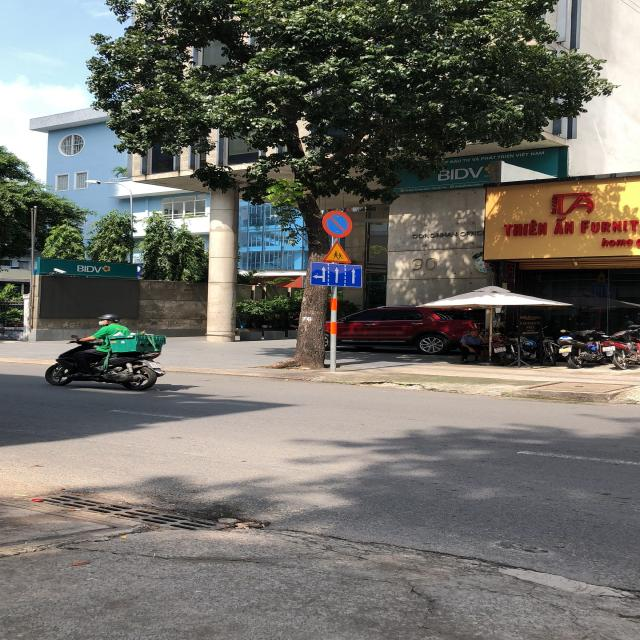Bien bao cam do xe: (316, 208, 362, 236)
